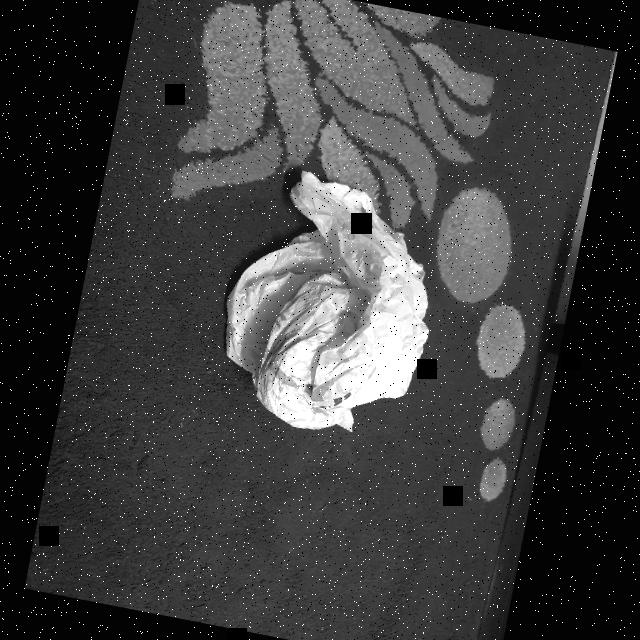plastic_bag: (194, 148, 468, 466)
